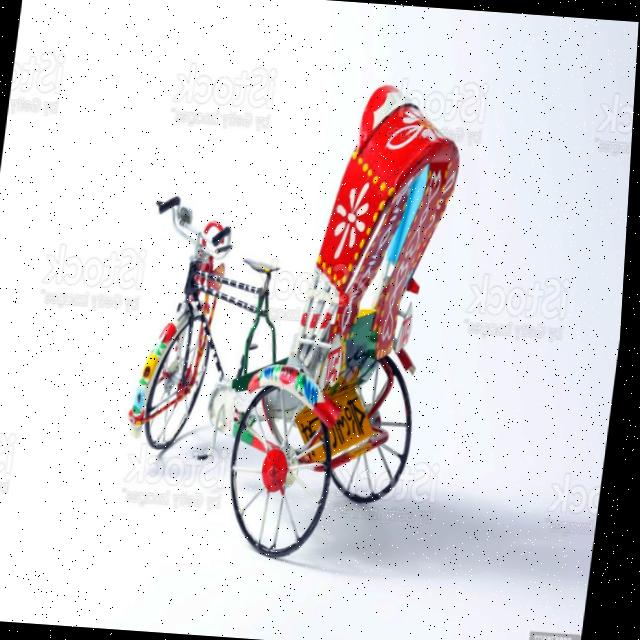rikshaw: (96, 57, 475, 580)
